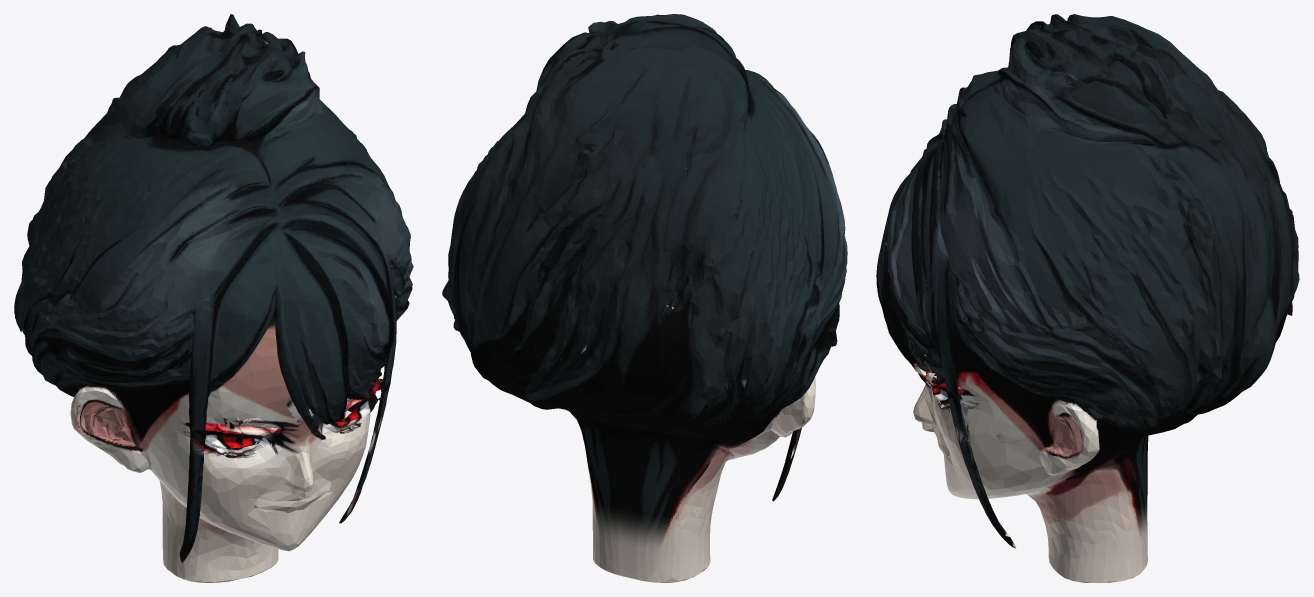
File: side_mitsue_maid_repaired_atlas.glb
3 views of the same model, side by side, from view 1: azimuth 30°, elevation 25°; view 2: azimuth 150°, elevation 25°; view 3: azimuth 270°, elevation 25° (orthographic). The views are drawn at different scales.
Parts seen in each view (by area): view 1: temp_mesh.ply; view 2: temp_mesh.ply; view 3: temp_mesh.ply.
Boxes of the visible parts, x1,y1,x2,y2 form: temp_mesh.ply: (14, 14, 413, 582); temp_mesh.ply: (442, 14, 847, 582); temp_mesh.ply: (876, 14, 1299, 582).
Bounding box in the file's own units: 1.38 × 1.97 × 1.41.
Materials: 1 (1 with a texture image).
